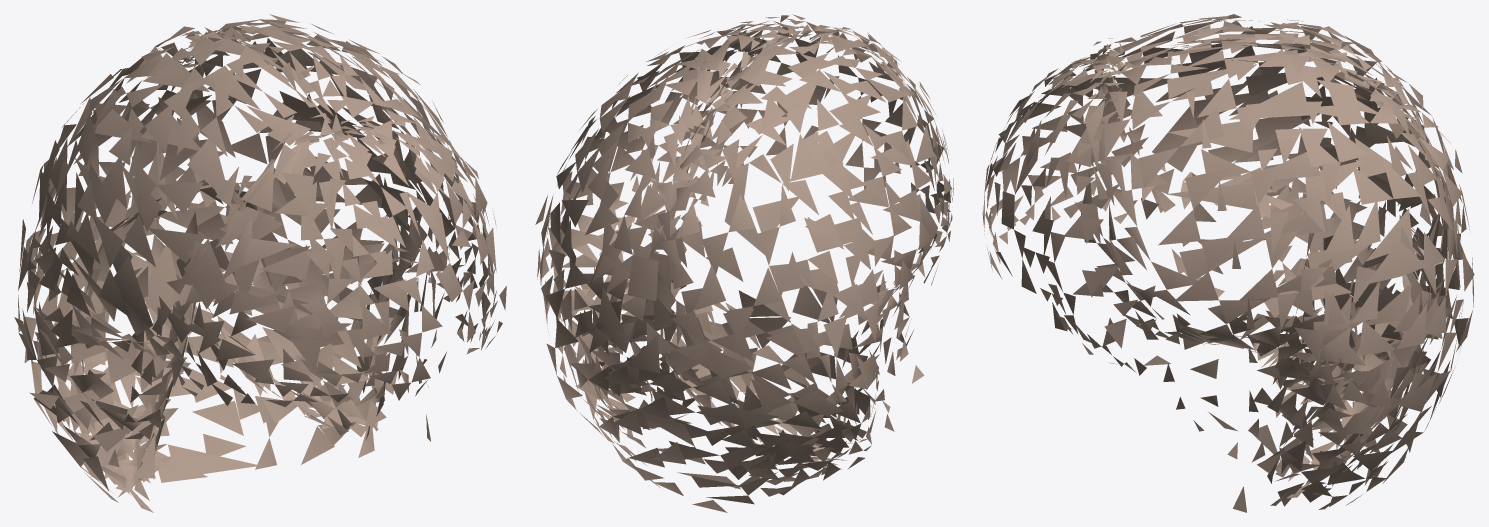
The model's file is female_hair_09_lod1.glb.
The picture shows the model from 3 angles, left to right: view 1: azimuth 30°, elevation 25°; view 2: azimuth 150°, elevation 25°; view 3: azimuth 270°, elevation 25°; orthographic projection. The views are drawn at different scales.
Parts seen in each view (by area): view 1: female-hair-09; view 2: female-hair-09; view 3: female-hair-09.
Part boxes in pixels (<box>): female-hair-09: <box>14,14,506,512</box>; female-hair-09: <box>535,14,953,512</box>; female-hair-09: <box>982,14,1474,512</box>.
Bounding box in the file's own units: 0.2013 × 0.2278 × 0.2262.
